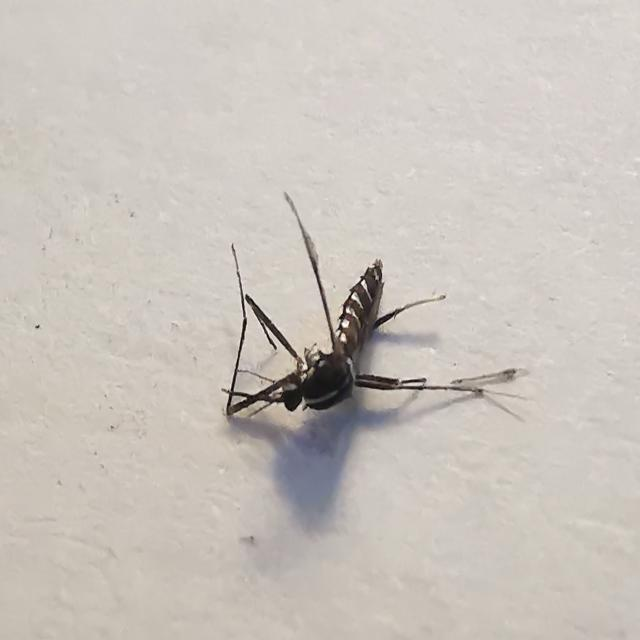albopictus: (198, 208, 518, 432)
